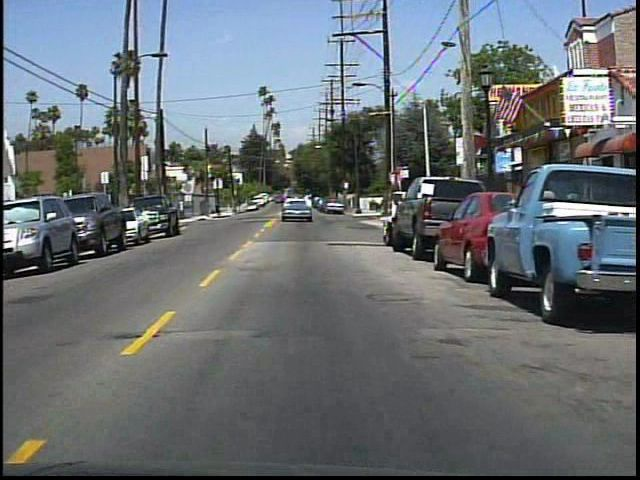person: (534, 177, 561, 239)
